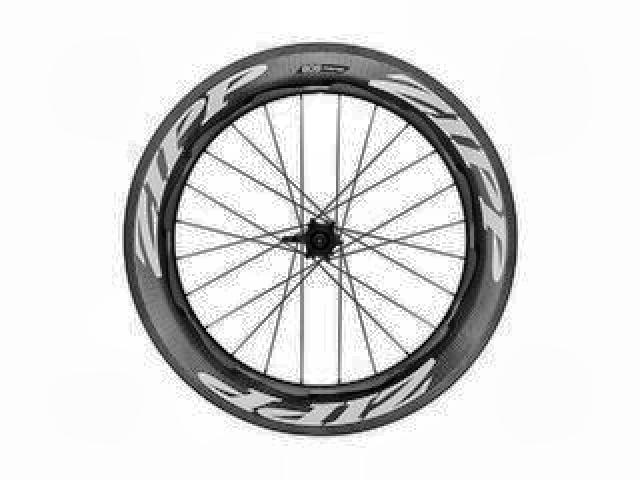wheel: (119, 41, 522, 439)
